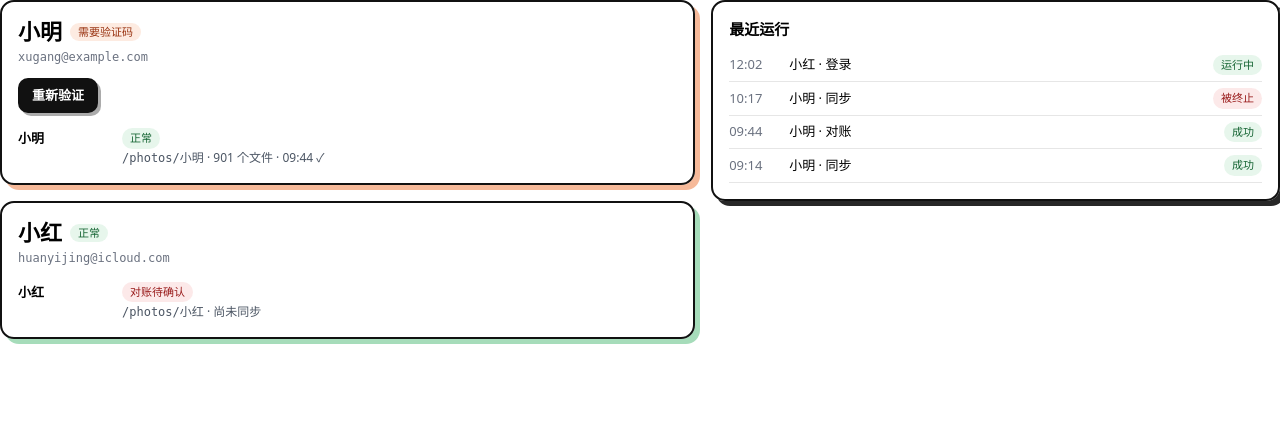
Scenario: AccountCard 2FA flow › needs_reauth → 重新验证 posts /auth, then awaiting_code (via refetch) shows the input
expect the text "需要验证码" is shown: met, box [70,23,141,41]
Click the button "重新验证" at [58, 95], box [18,78,98,113]
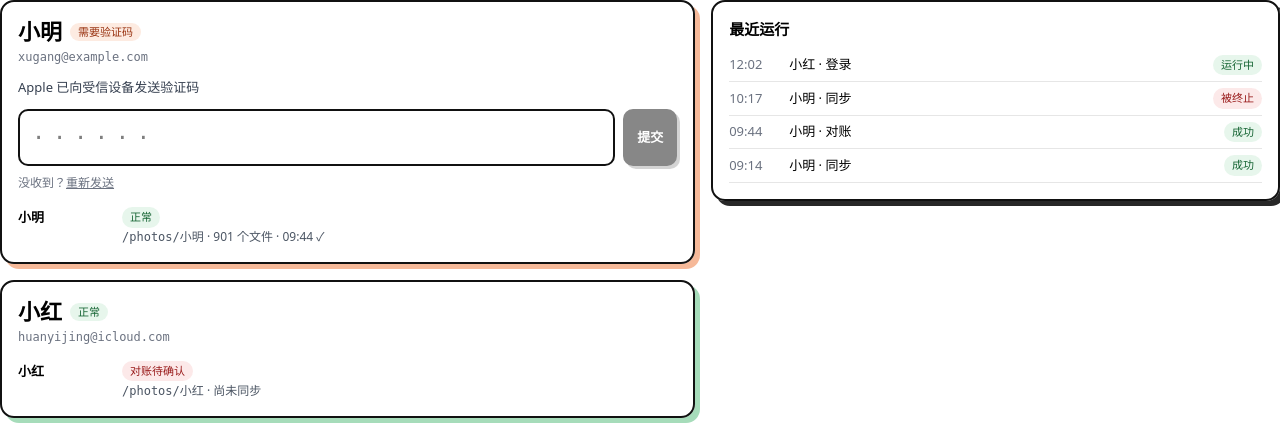
expect the field named "验证码" is shown: met, box [18,109,615,166]
